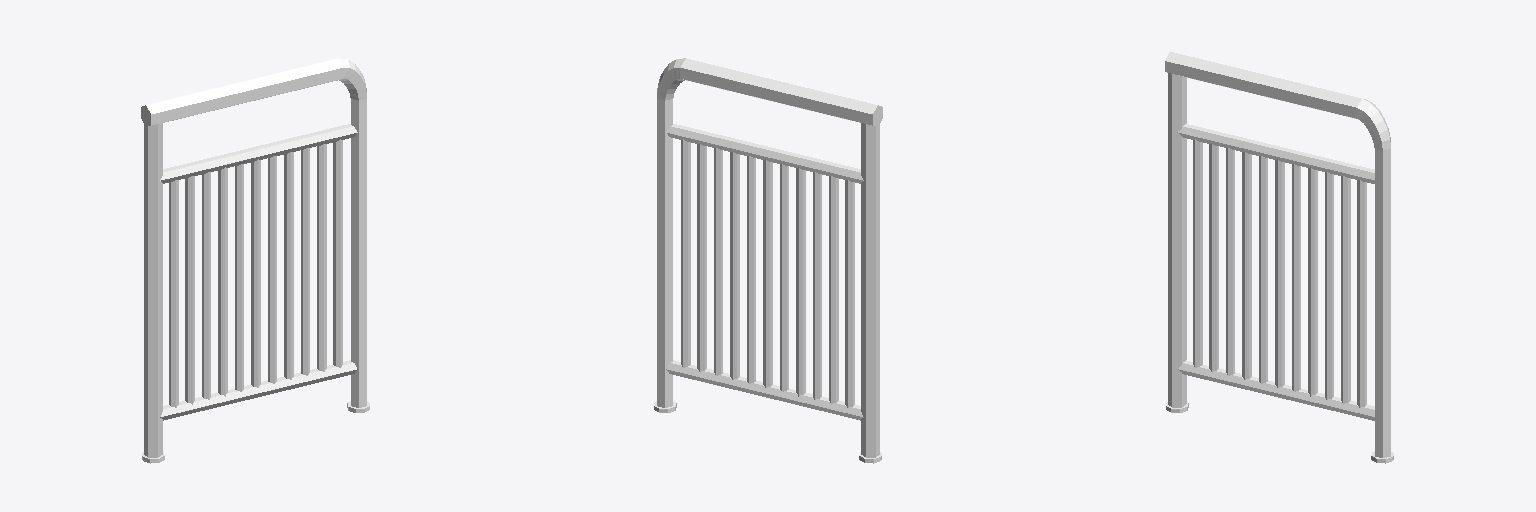
File: end.obj
3 renders of one model, left to right at view 1: azimuth 30°, elevation 25°; view 2: azimuth 150°, elevation 25°; view 3: azimuth 330°, elevation 25°, orthographic.
Parts seen in each view (by area): view 1: 贝塞尔曲线.032, 贝塞尔曲线.036, 贝塞尔曲线.034, 贝塞尔曲线.033, 贝塞尔曲线.035, 贝塞尔曲线.022, 贝塞尔曲线.024, 贝塞尔曲线.026, 贝塞尔曲线.031, 贝塞尔曲线.025, 贝塞尔曲线.027, 贝塞尔曲线.029 (+5 smaller); view 2: 贝塞尔曲线.032, 贝塞尔曲线.036, 贝塞尔曲线.034, 贝塞尔曲线.033, 贝塞尔曲线.035, 贝塞尔曲线.022, 贝塞尔曲线.024, 贝塞尔曲线.026, 贝塞尔曲线.031, 贝塞尔曲线.025, 贝塞尔曲线.027, 贝塞尔曲线.029 (+5 smaller); view 3: 贝塞尔曲线.032, 贝塞尔曲线.036, 贝塞尔曲线.034, 贝塞尔曲线.033, 贝塞尔曲线.035, 贝塞尔曲线.027, 贝塞尔曲线.029, 贝塞尔曲线.025, 贝塞尔曲线.031, 贝塞尔曲线.022, 贝塞尔曲线.024, 贝塞尔曲线.026 (+5 smaller).
Boxes of the visible parts, x1,y1,x2,y2 form: 贝塞尔曲线.032: [144, 123, 162, 457]; 贝塞尔曲线.036: [351, 99, 366, 407]; 贝塞尔曲线.034: [141, 58, 343, 126]; 贝塞尔曲线.033: [160, 124, 357, 183]; 贝塞尔曲线.035: [160, 360, 357, 420]; 贝塞尔曲线.022: [218, 167, 227, 396]; 贝塞尔曲线.024: [185, 176, 194, 404]; 贝塞尔曲线.026: [333, 139, 342, 367]; 贝塞尔曲线.031: [251, 159, 260, 387]; 贝塞尔曲线.025: [169, 180, 178, 407]; 贝塞尔曲线.027: [317, 144, 326, 371]; 贝塞尔曲线.029: [284, 152, 293, 379]; 贝塞尔曲线.032: [861, 123, 879, 457]; 贝塞尔曲线.036: [657, 99, 672, 407]; 贝塞尔曲线.034: [680, 58, 882, 126]; 贝塞尔曲线.033: [666, 124, 863, 183]; 贝塞尔曲线.035: [666, 360, 863, 420]; 贝塞尔曲线.022: [796, 167, 805, 396]; 贝塞尔曲线.024: [829, 176, 838, 404]; 贝塞尔曲线.026: [681, 139, 690, 367]; 贝塞尔曲线.031: [763, 159, 772, 387]; 贝塞尔曲线.025: [845, 180, 854, 407]; 贝塞尔曲线.027: [697, 144, 706, 371]; 贝塞尔曲线.029: [730, 152, 739, 379]; 贝塞尔曲线.032: [1168, 73, 1186, 407]; 贝塞尔曲线.036: [1375, 149, 1390, 457]; 贝塞尔曲线.034: [1165, 52, 1361, 119]; 贝塞尔曲线.033: [1177, 124, 1374, 183]; 贝塞尔曲线.035: [1178, 360, 1374, 420]; 贝塞尔曲线.027: [1341, 176, 1350, 404]; 贝塞尔曲线.029: [1308, 167, 1317, 396]; 贝塞尔曲线.025: [1193, 139, 1202, 367]; 贝塞尔曲线.031: [1275, 159, 1284, 387]; 贝塞尔曲线.022: [1242, 152, 1251, 379]; 贝塞尔曲线.024: [1209, 144, 1218, 371]; 贝塞尔曲线.026: [1357, 180, 1366, 407].
Size of the model in its own units: 1.1 by 1.65 by 0.1.